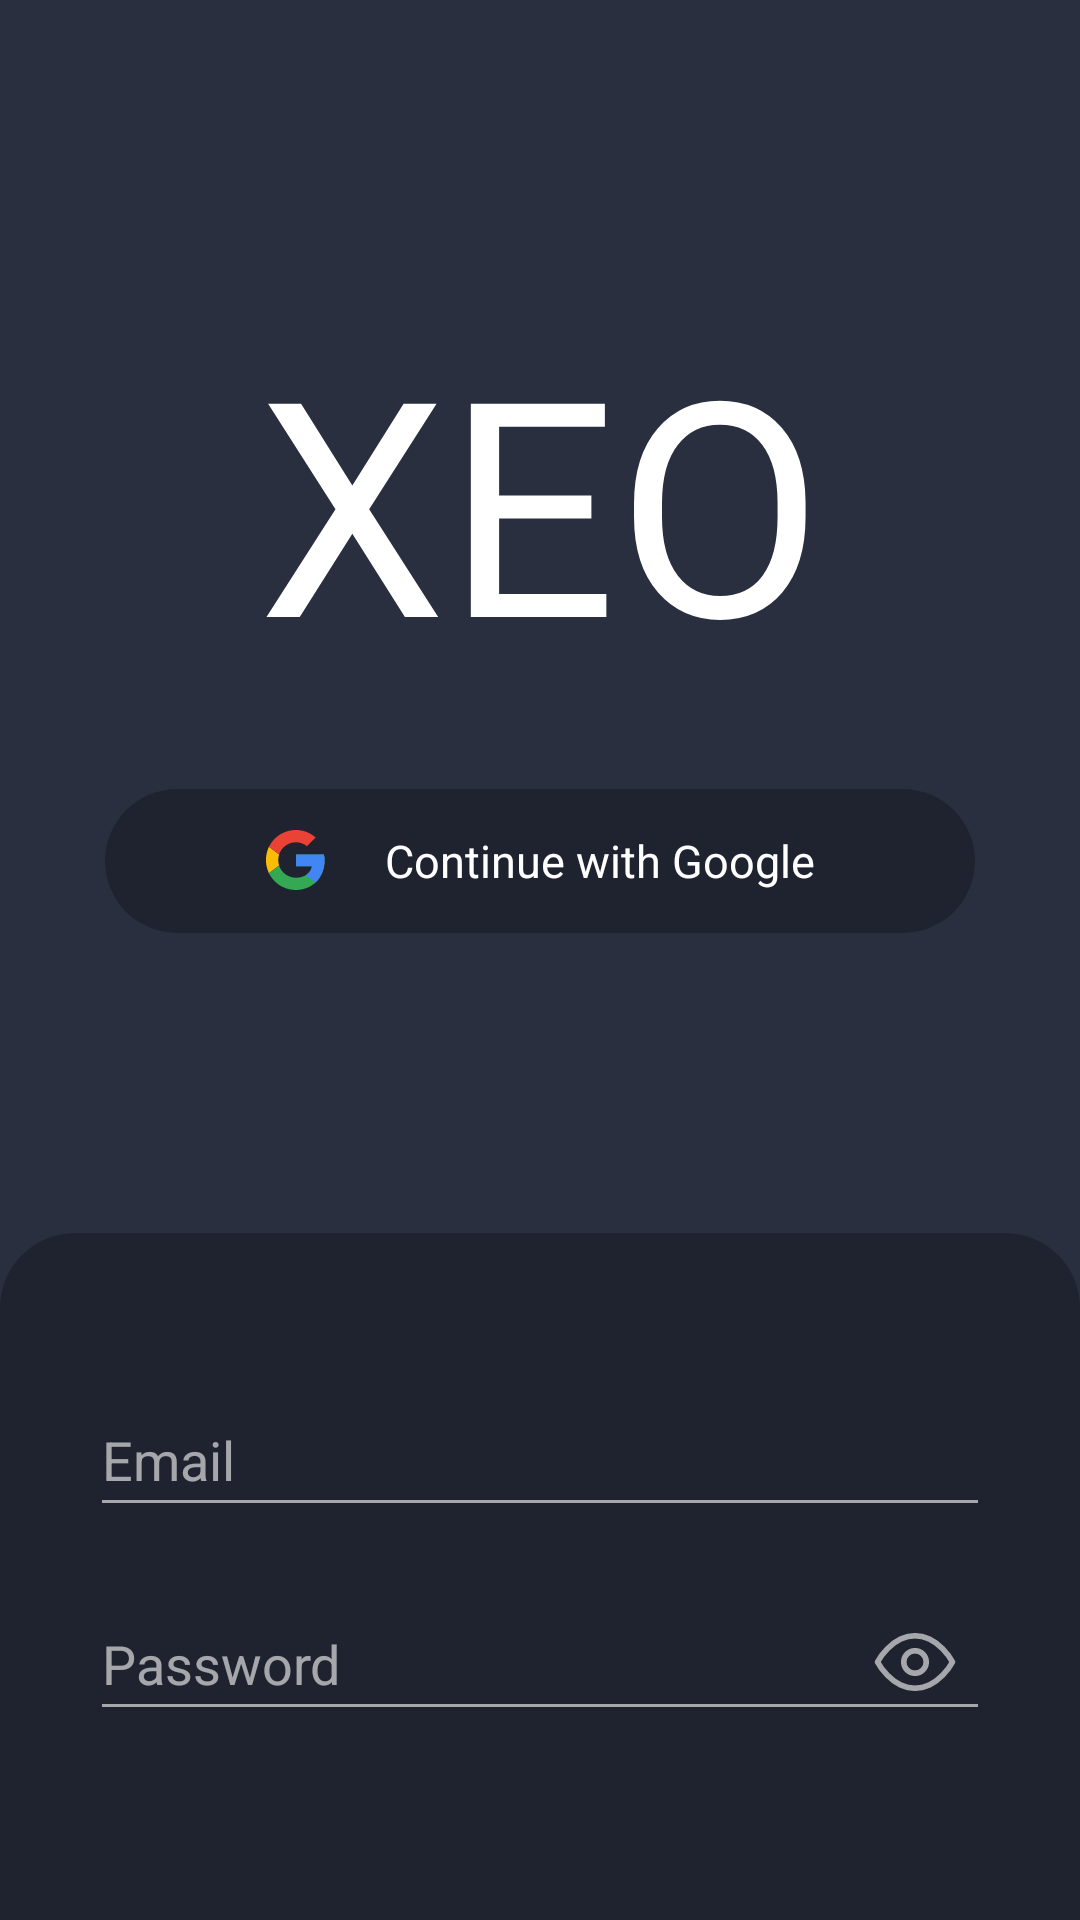

Named icons in this screenshot (1080px x 1920px) and their bounding boxes, (x1, y1, x2, y2):
eye open: (874, 1633, 956, 1691)
